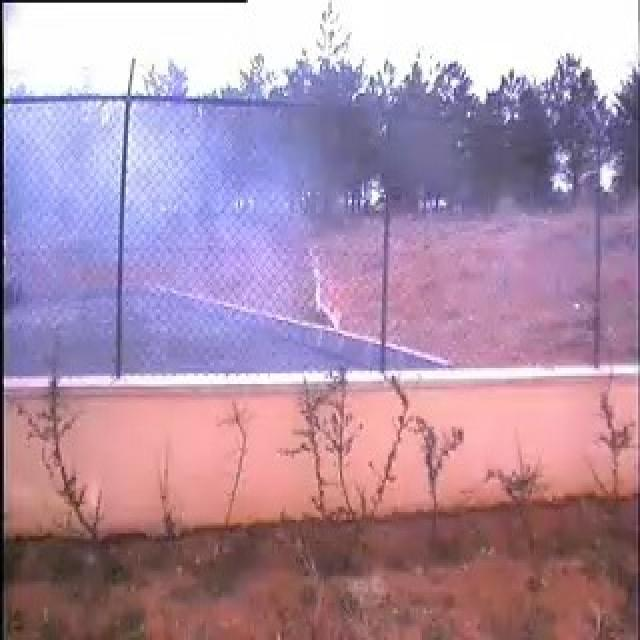smoke: (53, 91, 303, 359)
